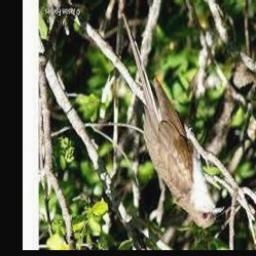Cuckoo: (122, 13, 225, 229)
